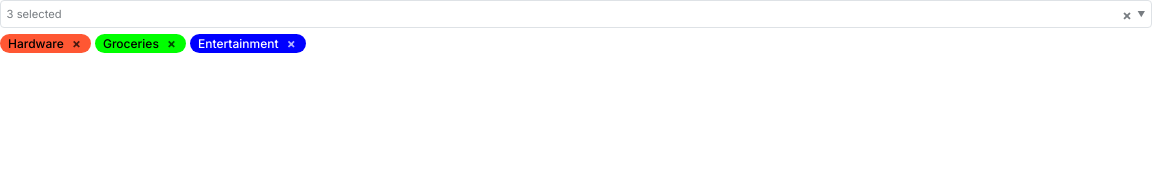
Test: TagFilterSelect component › shows "No more tags" when all tags are selected
The image size is (1152, 177).
Click the dropdown: (576, 14) top-left (0, 0), bottom-right (1151, 28)
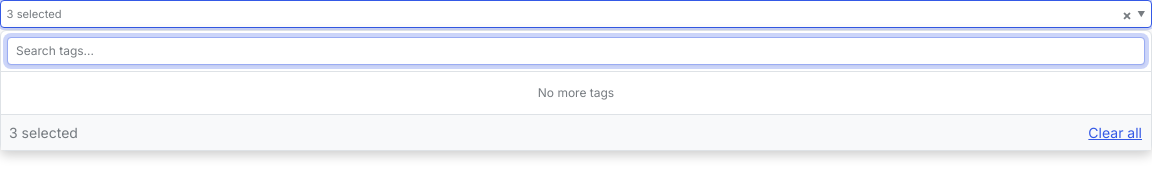
Now the text "No more tags" is shown, box top-left (538, 85), bottom-right (614, 100)
